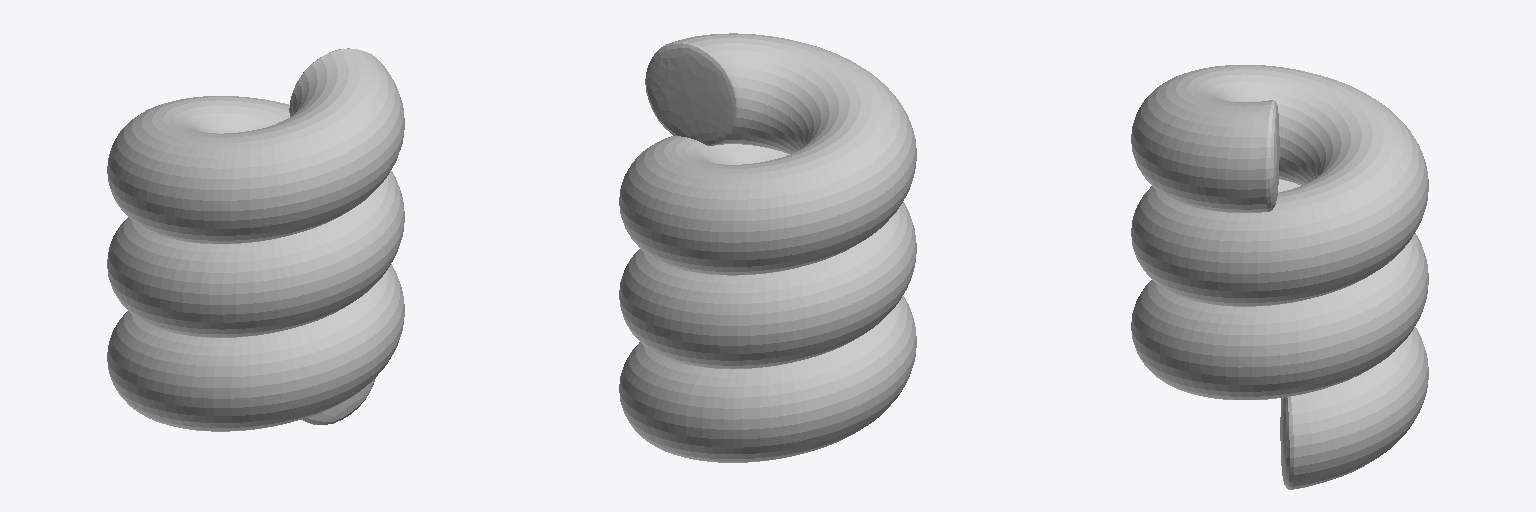
The model's file is helix_60.0.obj.
3 views of the same model, side by side, from view 1: azimuth 30°, elevation 25°; view 2: azimuth 150°, elevation 25°; view 3: azimuth 270°, elevation 25° (orthographic).
Visible parts, largest first — view 1: helix:pHelix1; view 2: helix:pHelix1; view 3: helix:pHelix1.
Boxes of the visible parts, x1,y1,x2,y2 form: helix:pHelix1: [107, 48, 404, 431]; helix:pHelix1: [619, 33, 916, 462]; helix:pHelix1: [1131, 65, 1428, 489].
Size of the model in its own units: 1.92 by 2.71 by 1.92.